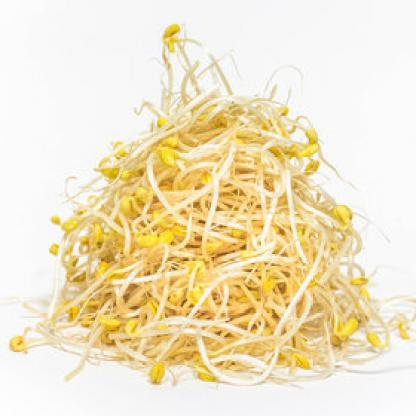bean sprouts: (85, 40, 387, 400)
